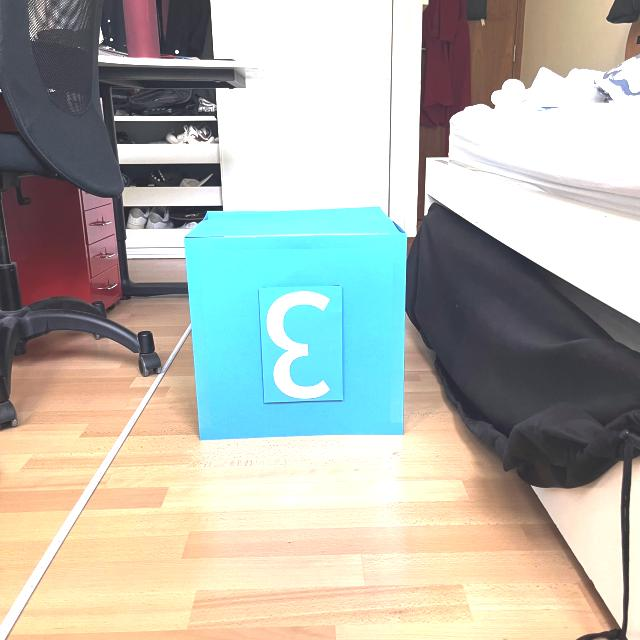box: (180, 203, 409, 442)
